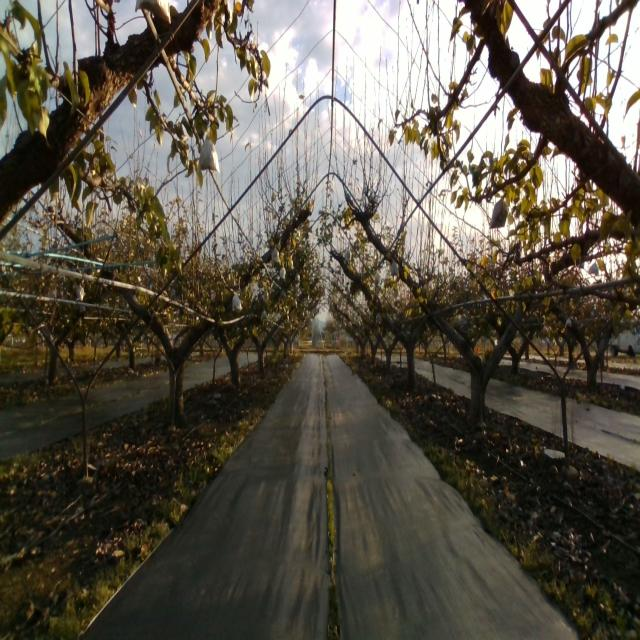pearbags: (489, 192, 509, 230), (197, 136, 217, 174), (232, 290, 242, 314), (390, 259, 400, 279)
